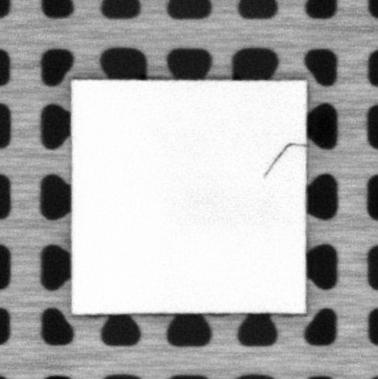DIE_INK: (263, 141, 306, 177)
